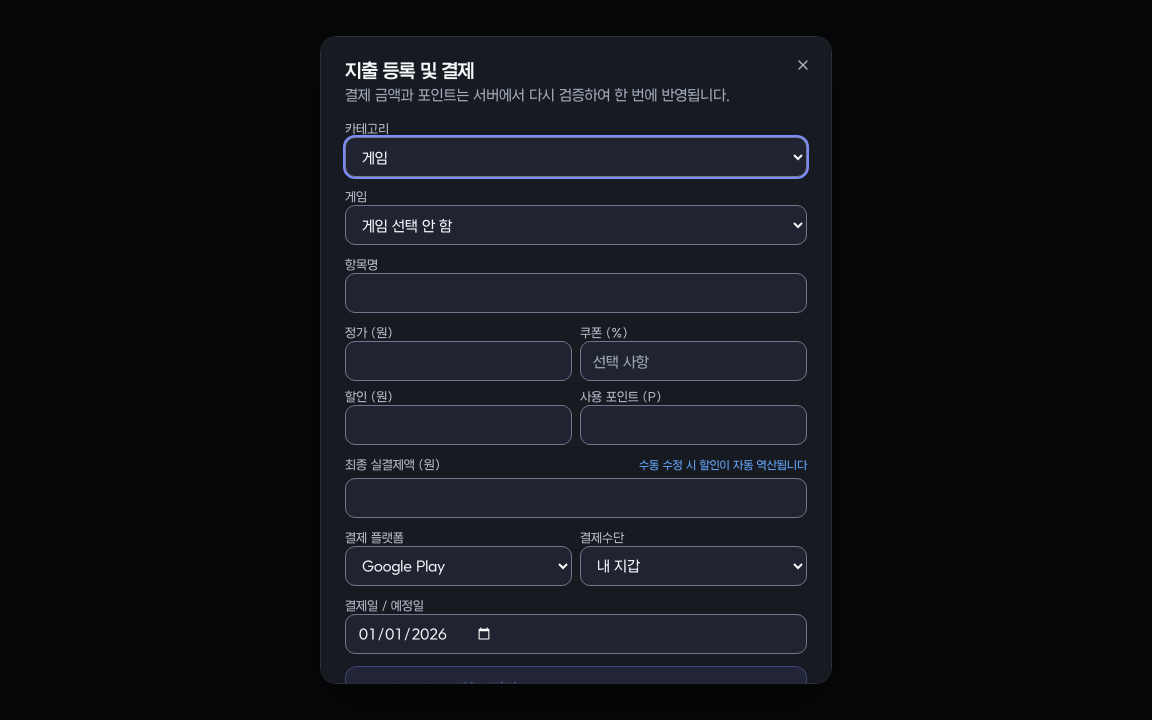
Scenario: ExpenseModal › 결제일 기간에 진행 중인 버전 일정이 없으면 연결된 버전 일정이 disabled 상태로 안내 문구가 출력된다
Select "Sample RPG" in the dropdown labelled "게임": (576, 225) x1=345 y1=205 x2=807 y2=245
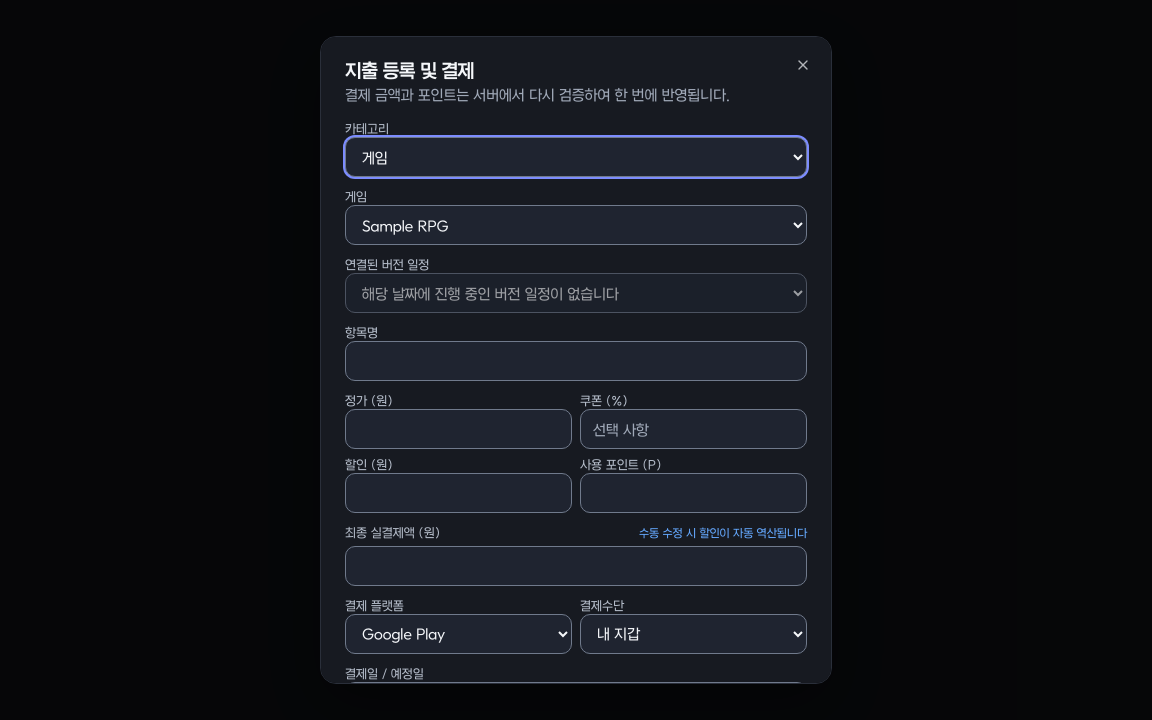
Expected: the dropdown labelled "연결된 버전 일정" is disabled, x1=345 y1=273 x2=807 y2=313
